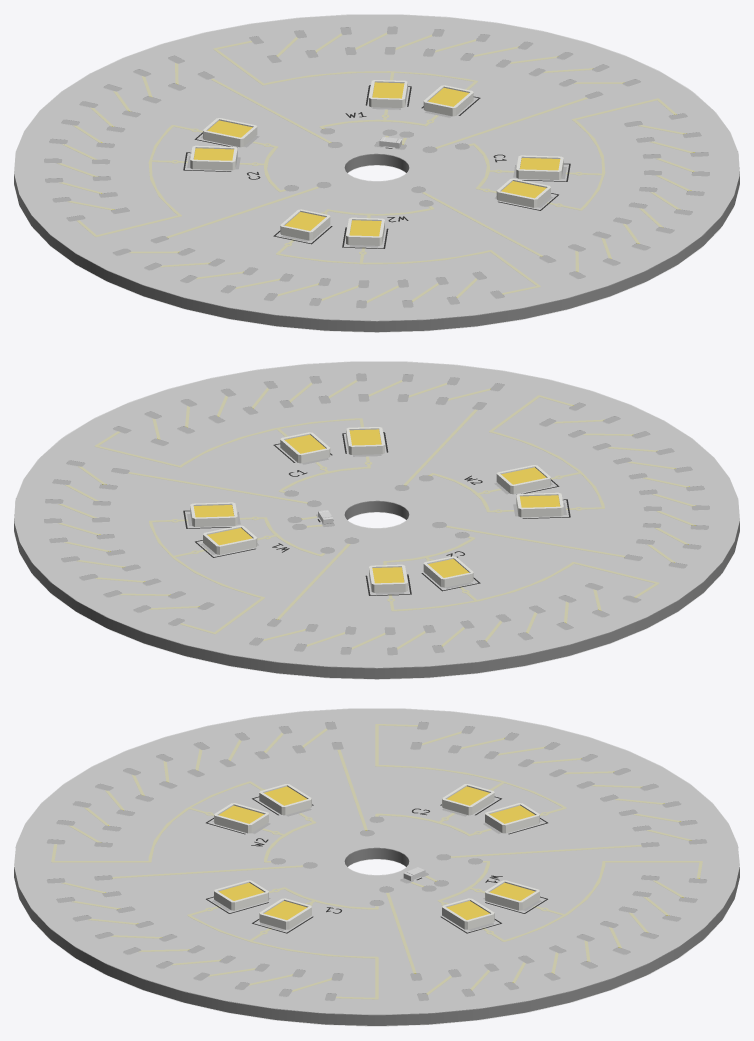
The model's file is eclipse-hub.glb.
3 views of the same model, one above another, from view 1: azimuth 30°, elevation 25°; view 2: azimuth 150°, elevation 25°; view 3: azimuth 270°, elevation 25° (orthographic).
Parts seen in each view (by area): view 1: =>[0:1:1:9], =>[0:1:1:11], =>[0:1:1:5], housing (×8), =>[0:1:1:4], =>[0:1:1:7], =>[0:1:1:10]; view 2: =>[0:1:1:9], =>[0:1:1:11], =>[0:1:1:5], housing (×8), =>[0:1:1:4], =>[0:1:1:7], =>[0:1:1:10]; view 3: =>[0:1:1:9], =>[0:1:1:11], =>[0:1:1:5], housing (×8), =>[0:1:1:4], =>[0:1:1:10], =>[0:1:1:7].
Part boxes in pixels (box(x1,y1,x2,y2)): =>[0:1:1:9]: box(14, 14, 739, 320); =>[0:1:1:11]: box(14, 15, 739, 332); =>[0:1:1:5]: box(44, 26, 709, 308); housing (×8): box(190, 80, 563, 245); =>[0:1:1:4]: box(60, 33, 694, 302); =>[0:1:1:7]: box(183, 85, 570, 248); =>[0:1:1:10]: box(14, 165, 739, 332); =>[0:1:1:9]: box(14, 361, 739, 667); =>[0:1:1:11]: box(14, 362, 739, 679); =>[0:1:1:5]: box(44, 373, 709, 655); housing (×8): box(190, 427, 563, 592); =>[0:1:1:4]: box(59, 380, 695, 648); =>[0:1:1:7]: box(183, 432, 570, 595); =>[0:1:1:10]: box(14, 512, 739, 679); =>[0:1:1:9]: box(14, 708, 739, 1014); =>[0:1:1:11]: box(14, 709, 739, 1025); =>[0:1:1:5]: box(46, 722, 707, 1000); housing (×8): box(214, 784, 539, 929); =>[0:1:1:4]: box(52, 724, 701, 998); =>[0:1:1:10]: box(16, 859, 737, 1026); =>[0:1:1:7]: box(206, 796, 547, 933).
Bounding box in the file's own units: 0.0559 × 0.00248 × 0.056.
